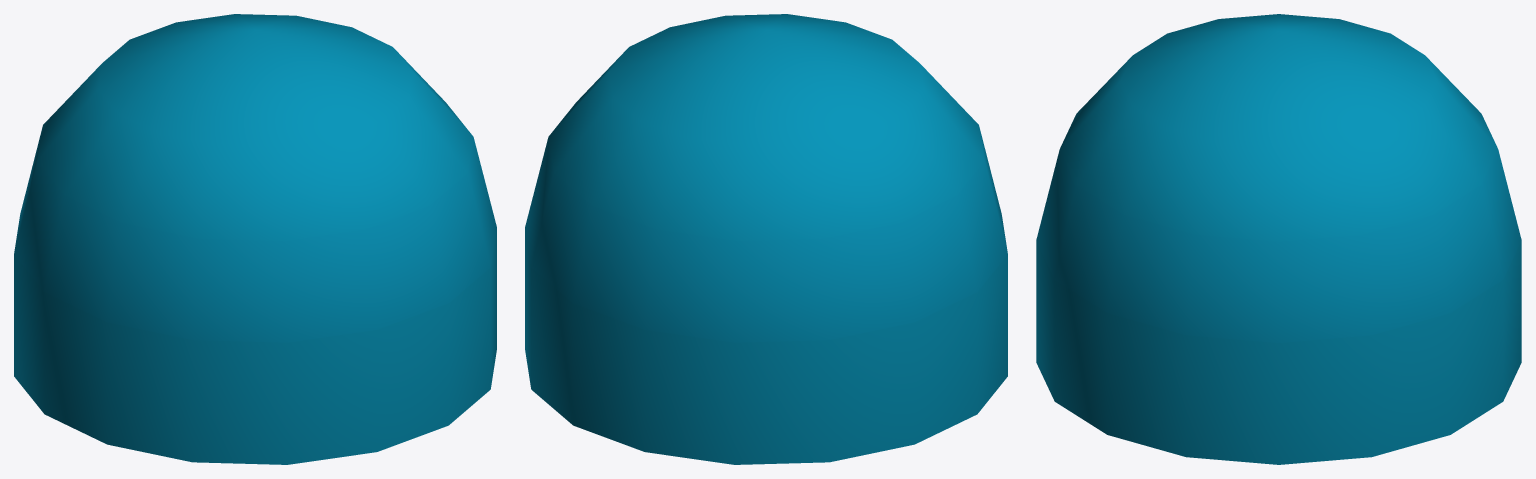
Rendered from Arm_City_SSleeve_Blue_01_L.fbx.
The picture shows the model from 3 angles, left to right: view 1: azimuth 30°, elevation 25°; view 2: azimuth 150°, elevation 25°; view 3: azimuth 270°, elevation 25°; orthographic projection.
Visible parts, largest first — view 1: Arm_City_SSleeve_Blue_01_L; view 2: Arm_City_SSleeve_Blue_01_L; view 3: Arm_City_SSleeve_Blue_01_L.
Boxes of the visible parts, x1=… form: Arm_City_SSleeve_Blue_01_L: x1=14, y1=14, x2=496, y2=464; Arm_City_SSleeve_Blue_01_L: x1=525, y1=14, x2=1007, y2=464; Arm_City_SSleeve_Blue_01_L: x1=1036, y1=14, x2=1521, y2=464.
Bounding box in the file's own units: 48.18 × 36.31 × 48.18.
